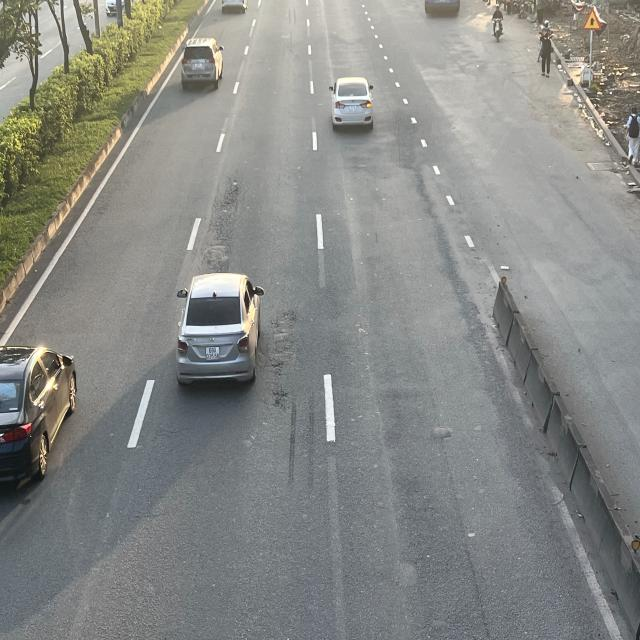car: (176, 275, 265, 391), (329, 75, 376, 131), (182, 39, 224, 90)
